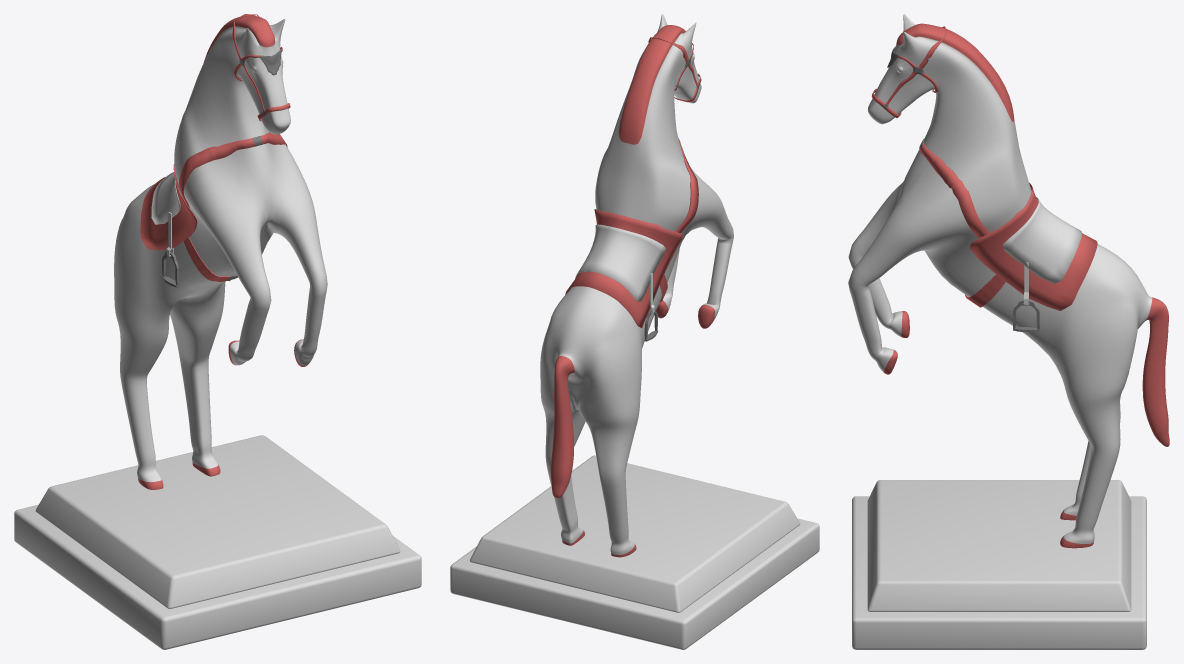
File: Pferd.fbx
The picture shows the model from 3 angles, left to right: view 1: azimuth 30°, elevation 25°; view 2: azimuth 150°, elevation 25°; view 3: azimuth 270°, elevation 25°; orthographic projection. The views are drawn at different scales.
Parts seen in each view (by area): view 1: Pferd, base2, base, saddle_1, saddle_belt_1, saddle_2, harness; view 2: Pferd, base2, base, saddle_2, saddle_1, saddle_belt_1; view 3: Pferd, base2, base, saddle_1, saddle_2, saddle_belt_1, harness, saddle_belt_2, stirrup_1.
Boxes of the visible parts, x1,y1,x2,y2 form: Pferd: (114, 15, 327, 489); base2: (35, 435, 400, 608); base: (14, 504, 421, 649); saddle_1: (140, 164, 197, 250); saddle_belt_1: (178, 132, 287, 207); saddle_2: (151, 172, 180, 224); harness: (232, 14, 290, 121); Pferd: (540, 14, 733, 557); base2: (469, 455, 799, 612); base: (450, 518, 819, 649); saddle_2: (575, 224, 665, 301); saddle_1: (565, 209, 682, 328); saddle_belt_1: (675, 138, 698, 232); Pferd: (848, 14, 1169, 548); base2: (867, 480, 1131, 611); base: (852, 496, 1146, 649); saddle_1: (969, 182, 1097, 310); saddle_2: (1002, 197, 1081, 283); saddle_belt_1: (919, 138, 989, 238); harness: (871, 26, 946, 118); saddle_belt_2: (965, 274, 1005, 307); stirrup_1: (1013, 262, 1039, 332).
Bounding box in the file's own units: 5 × 10.59 × 5.45.
